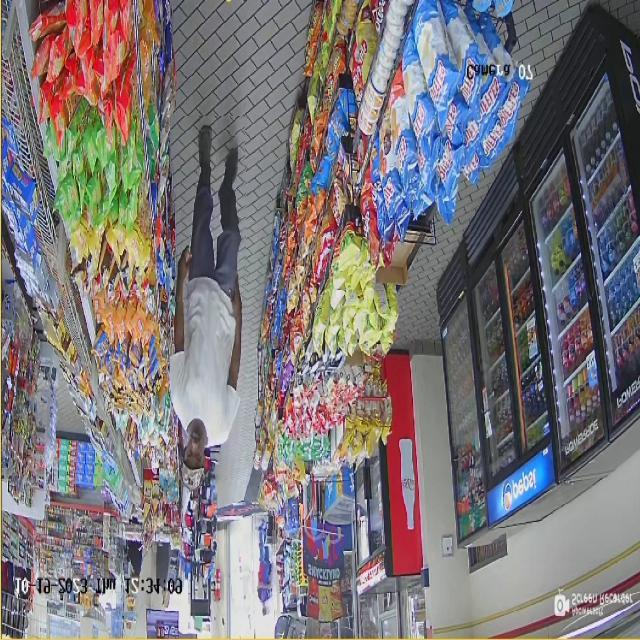Normal: (170, 116, 248, 505), (252, 501, 276, 629)
